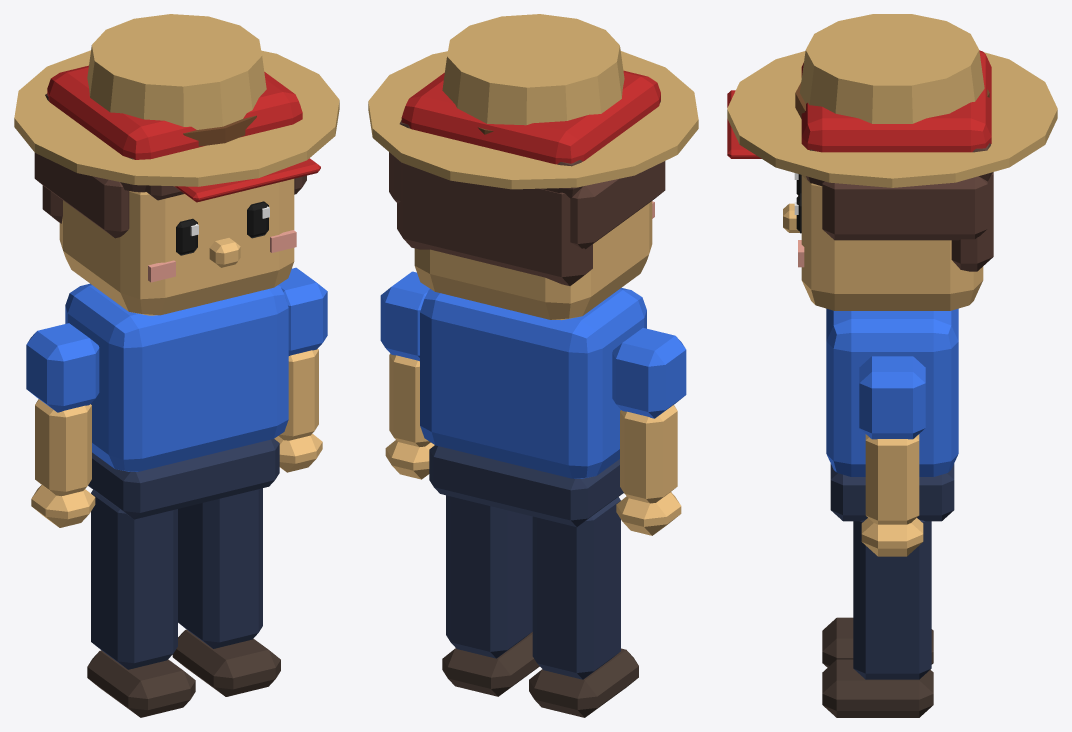
Rendered from Karakter_Model.fbx.
3 views of the same model, side by side, from view 1: azimuth 30°, elevation 25°; view 2: azimuth 150°, elevation 25°; view 3: azimuth 270°, elevation 25° (orthographic).
Visible parts, largest first — view 1: Hat_Straw, Torso, Head, LegL, LegR, ArmL, Cap, Hips, ArmR, Hair; view 2: Hat_Straw, Torso, Hair, LegL, LegR, ArmL, Head, Cap, Hips, ArmR; view 3: Hat_Straw, LegR, Torso, Head, ArmR, Hair, Cap, Hips, LegL.
Part boxes in pixels (<box>): Hat_Straw: <box>14,14,339,186</box>; Torso: <box>65,283,288,471</box>; Head: <box>59,179,296,315</box>; LegL: <box>87,489,195,717</box>; LegR: <box>172,488,280,696</box>; ArmL: <box>26,323,99,527</box>; Cap: <box>47,65,320,202</box>; Hips: <box>88,439,279,519</box>; ArmR: <box>274,267,327,472</box>; Hair: <box>34,93,306,238</box>; Hat_Straw: <box>368,14,698,189</box>; Torso: <box>420,287,646,478</box>; Hair: <box>389,100,665,285</box>; LegL: <box>529,497,638,717</box>; LegR: <box>442,495,539,696</box>; ArmL: <box>612,328,686,535</box>; Head: <box>414,201,654,320</box>; Cap: <box>401,70,660,164</box>; Hips: <box>429,445,623,526</box>; ArmR: <box>380,271,434,479</box>; Hat_Straw: <box>727,14,1057,187</box>; LegR: <box>822,519,933,717</box>; Torso: <box>826,308,958,476</box>; Head: <box>783,173,983,310</box>; ArmR: <box>859,356,925,556</box>; Hair: <box>806,143,993,271</box>; Cap: <box>727,50,991,158</box>; Hips: <box>830,464,954,521</box>; LegL: <box>822,617,933,667</box>.
Size of the model in its own units: 80 by 170 by 80.
